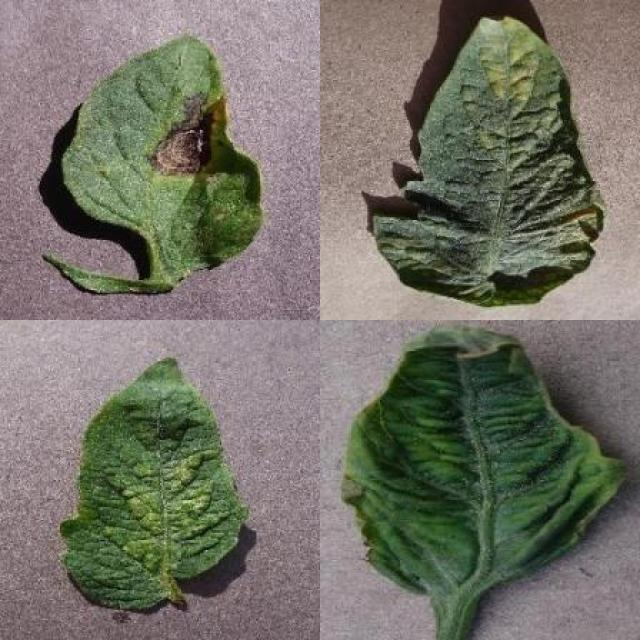Early Blight: (62, 34, 267, 282)
Spider Mites: (371, 17, 606, 310), (59, 356, 250, 606)
Yellow Leaf Curl Virus: (342, 324, 632, 597)
